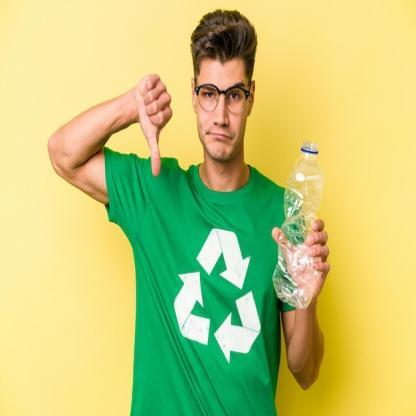thumb_down: (134, 70, 174, 178)
